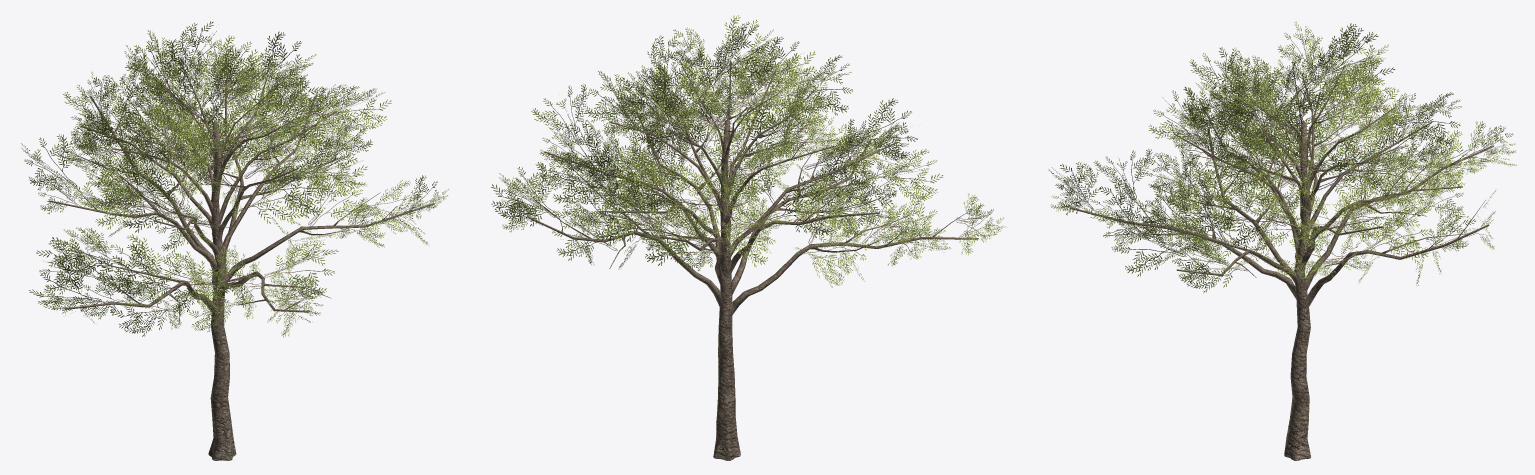
File: acacia.obj
3 views of the same model, side by side, from view 1: azimuth 30°, elevation 25°; view 2: azimuth 150°, elevation 25°; view 3: azimuth 270°, elevation 25° (orthographic). The views are drawn at different scales.
Visible parts, largest first — view 1: tree; view 2: tree; view 3: tree.
Boxes of the visible parts, bbox=[...] form: tree: bbox=[21, 21, 449, 460]; tree: bbox=[491, 15, 1005, 460]; tree: bbox=[1048, 21, 1516, 460].
Size of the model in its own units: 199 by 188 by 195.
2 materials, 2 textured.
